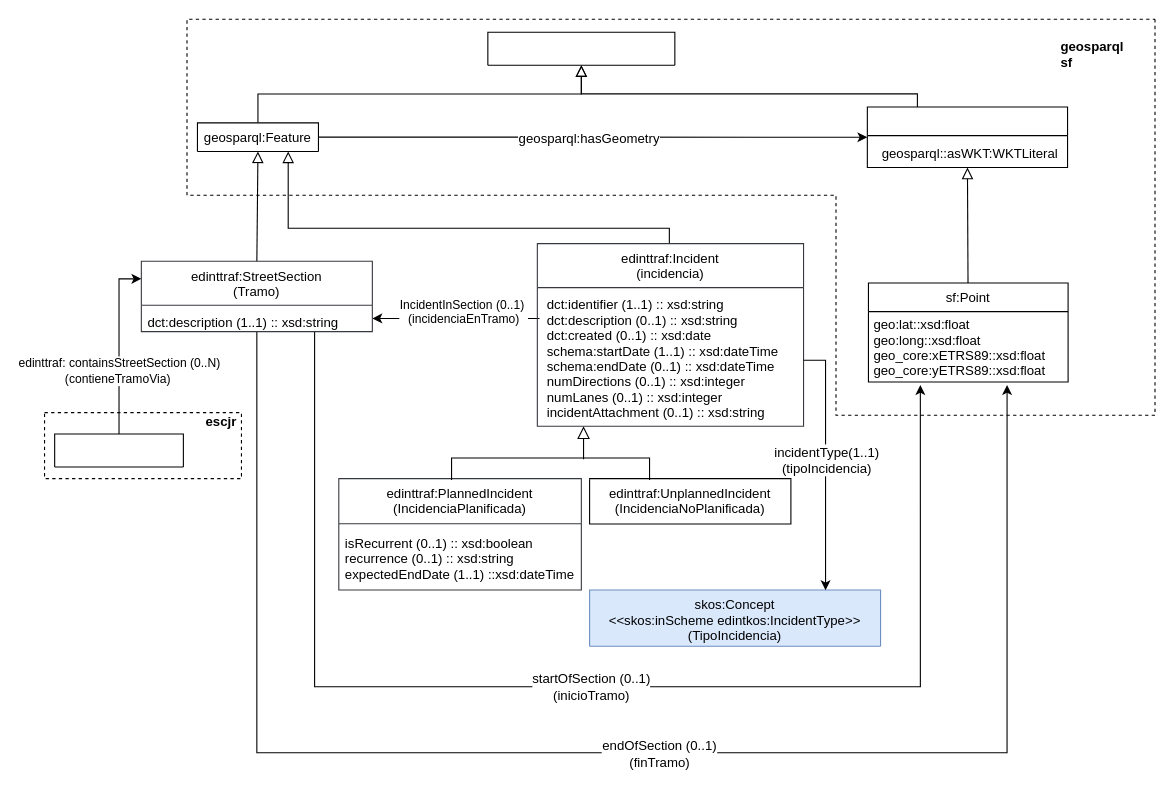
This 1176x790 diagram has some shape labels left out. The shapes that lost their labels are listed below. From the top down, each one's centre as x and y in pixels, then its label:
pixel 581 48: geosparql:SpatialObject
pixel 967 137: geosparql:Geometry
pixel 118 450: escjr:Via
